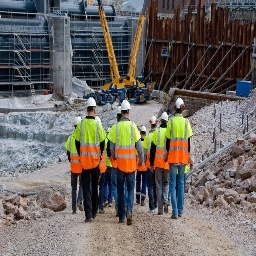helmet: (120, 98, 130, 112), (86, 96, 96, 108), (174, 98, 184, 109)
person: (113, 99, 140, 223), (77, 95, 103, 223), (168, 99, 192, 219)
vest: (81, 118, 102, 171), (115, 124, 137, 171), (171, 117, 189, 165), (154, 129, 166, 170)
